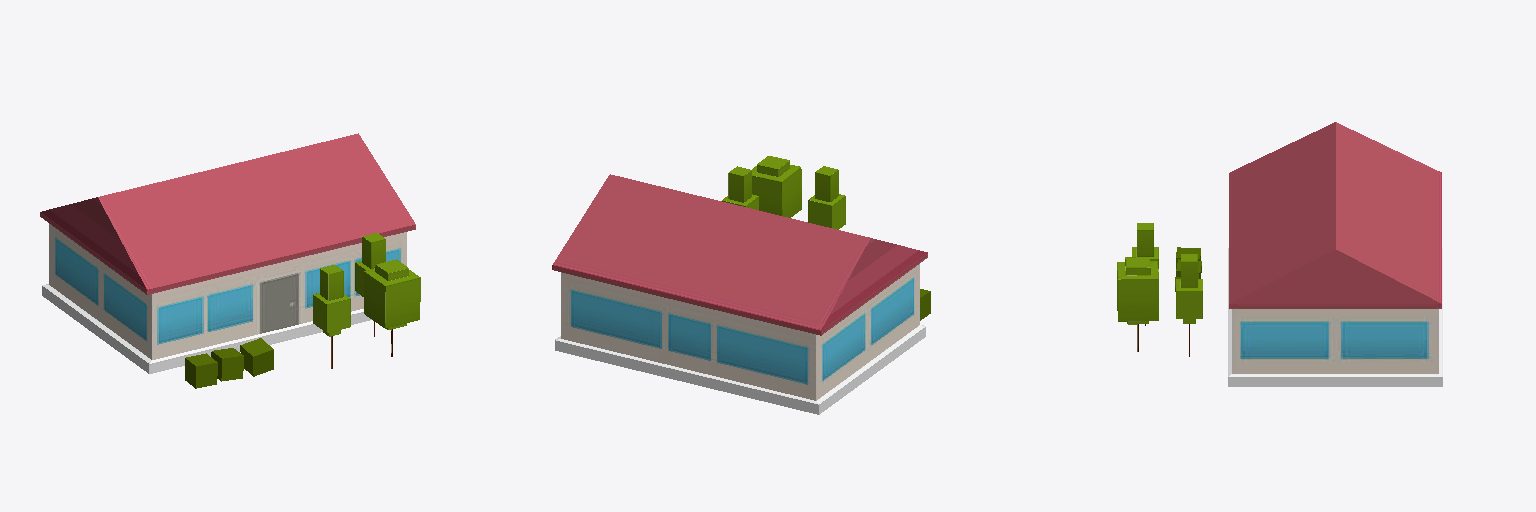
The picture shows the model from 3 angles: view 1: azimuth 30°, elevation 25°; view 2: azimuth 150°, elevation 25°; view 3: azimuth 270°, elevation 25°; orthographic projection.
Visible parts, largest first — view 1: living_red_1lvl_Mesh.4925, Tree_3_499_2.002_Mesh.198, Tree_2_3_61.004_Mesh.197, Tree_2_3_61.001_Mesh.196, Cube_51.001_Mesh.199, Cube_51.003_Mesh.201, Cube_51.002_Mesh.200; view 2: living_red_1lvl_Mesh.4925, Tree_3_499_2.002_Mesh.198, Tree_2_3_61.004_Mesh.197, Tree_2_3_61.001_Mesh.196; view 3: living_red_1lvl_Mesh.4925, Tree_3_499_2.002_Mesh.198, Tree_2_3_61.001_Mesh.196, Tree_2_3_61.004_Mesh.197.
Part boxes in pixels (x1,y1,x2,y2): living_red_1lvl_Mesh.4925: (40,133,415,373); Tree_3_499_2.002_Mesh.198: (364,259,420,356); Tree_2_3_61.004_Mesh.197: (313,265,350,368); Tree_2_3_61.001_Mesh.196: (355,233,385,336); Cube_51.001_Mesh.199: (185,353,217,388); Cube_51.003_Mesh.201: (240,338,273,376); Cube_51.002_Mesh.200: (211,348,243,381); living_red_1lvl_Mesh.4925: (552,174,927,414); Tree_3_499_2.002_Mesh.198: (752,156,801,217); Tree_2_3_61.004_Mesh.197: (808,166,845,229); Tree_2_3_61.001_Mesh.196: (722,166,758,209); living_red_1lvl_Mesh.4925: (1228,122,1442,386); Tree_3_499_2.002_Mesh.198: (1117,257,1158,351); Tree_2_3_61.001_Mesh.196: (1176,254,1202,356); Tree_2_3_61.004_Mesh.197: (1132,223,1158,325).
Size of the model in its own units: 1.77 by 0.8872 by 1.86.
Materials: 4 (3 with a texture image).